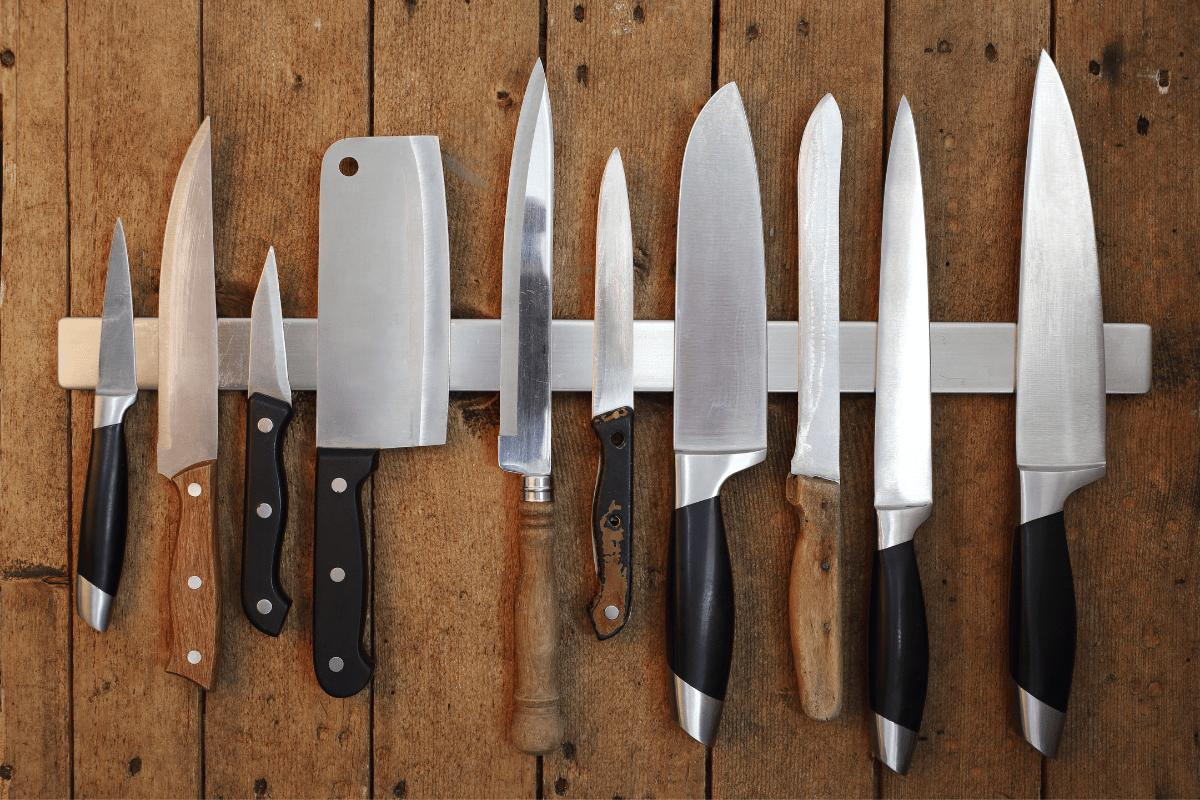faca: (1011, 52, 1107, 758), (668, 83, 767, 745), (867, 96, 932, 773), (498, 58, 561, 755), (785, 94, 842, 720), (156, 118, 218, 687), (78, 219, 137, 630), (590, 148, 633, 639), (241, 247, 291, 636)
facao: (313, 137, 449, 697)
